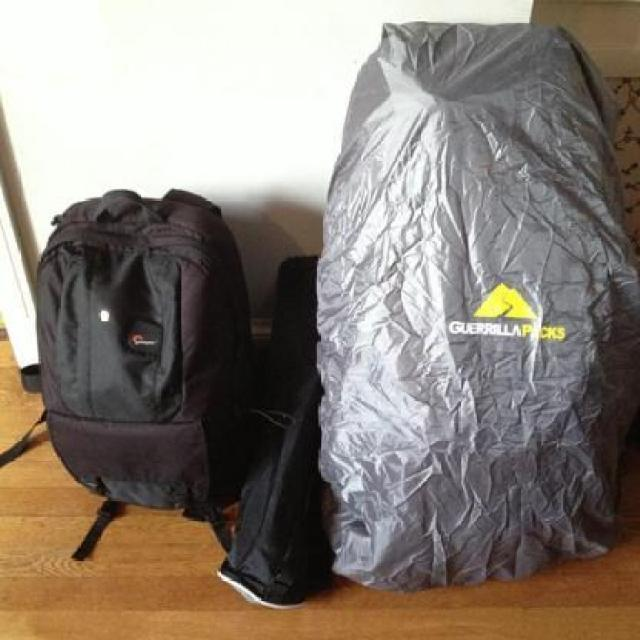backpack: (32, 182, 245, 523)
